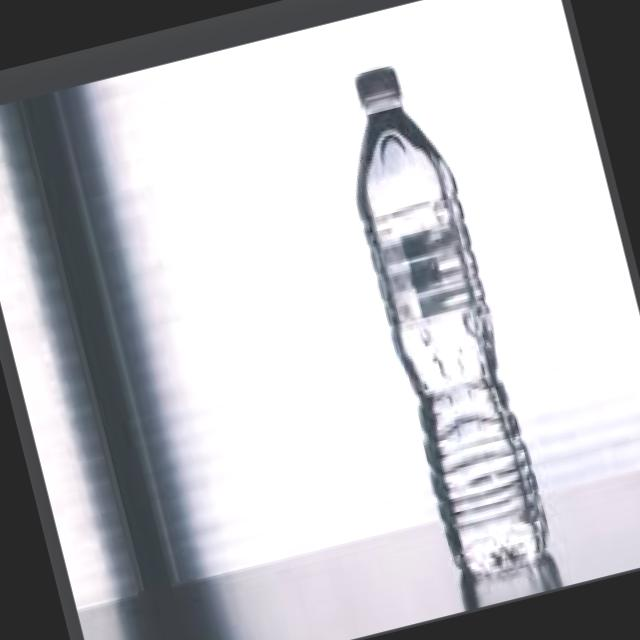Recycle: (326, 48, 566, 591)
